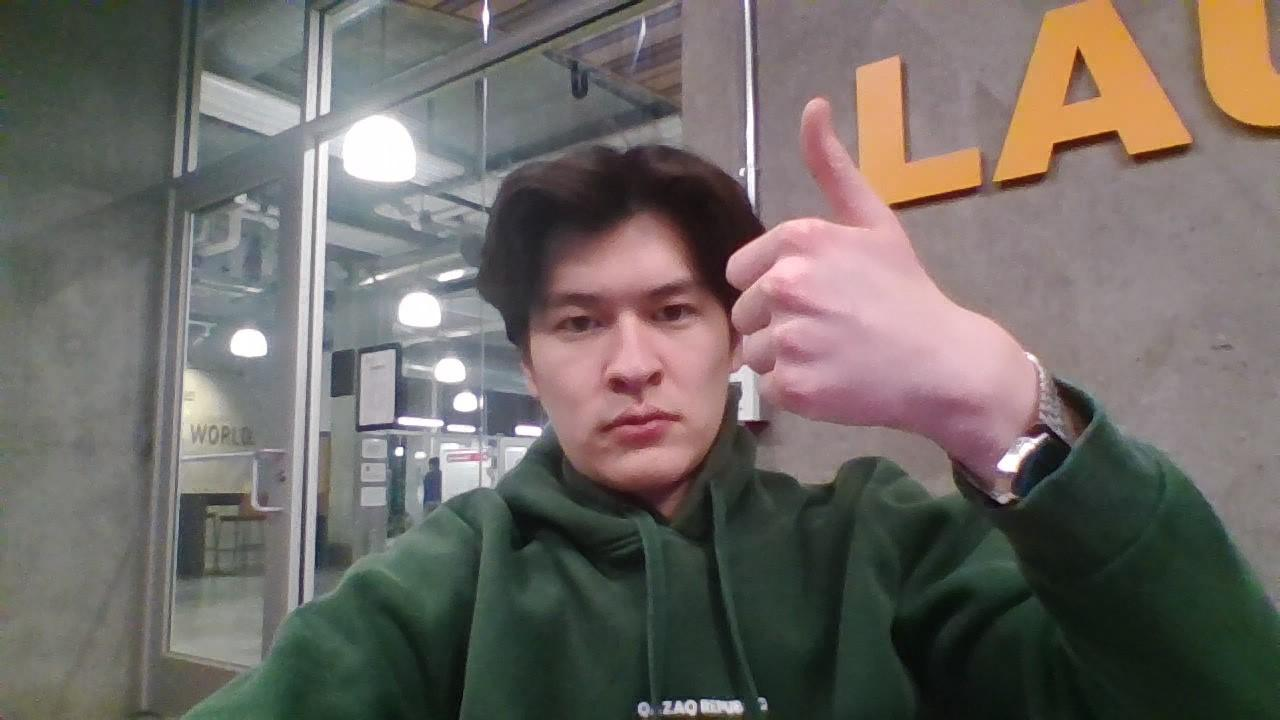thumbsUp: (728, 98, 931, 426)
